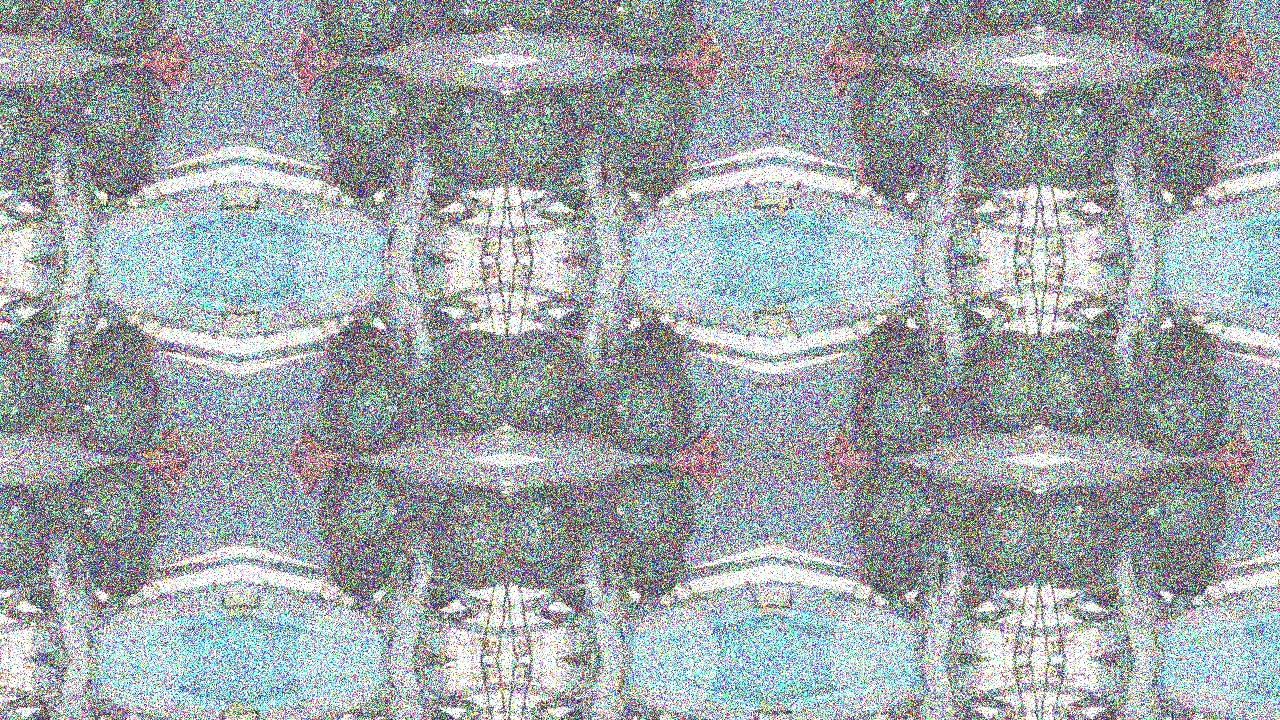chock: (134, 16, 204, 60), (276, 16, 346, 60), (809, 16, 879, 60), (1201, 16, 1271, 60), (134, 60, 204, 104), (276, 60, 346, 104), (809, 60, 879, 104), (1201, 60, 1271, 104), (134, 416, 204, 460), (276, 416, 346, 460), (809, 416, 879, 460), (1201, 416, 1271, 460), (134, 460, 204, 504), (276, 460, 346, 504), (809, 460, 879, 504), (1201, 460, 1271, 504), (668, 16, 737, 60), (668, 60, 737, 104), (668, 416, 737, 460), (668, 460, 737, 504)
wheel: (592, 60, 706, 177), (841, 60, 955, 177), (1125, 60, 1239, 177), (592, 343, 706, 460), (841, 343, 955, 460), (1125, 343, 1239, 460), (592, 460, 706, 577), (841, 460, 955, 577), (1125, 460, 1239, 577), (59, 60, 172, 177), (308, 60, 421, 177), (59, 343, 172, 460), (308, 343, 421, 460), (59, 460, 172, 577), (308, 460, 421, 577), (420, 80, 507, 199), (507, 80, 594, 199), (953, 80, 1040, 199), (1040, 80, 1127, 199), (420, 321, 507, 440), (507, 321, 594, 440), (953, 321, 1040, 440), (1040, 321, 1127, 440), (420, 480, 507, 599), (507, 480, 594, 599), (953, 480, 1040, 599), (1040, 480, 1127, 599), (0, 80, 60, 199), (0, 321, 60, 440), (0, 480, 60, 599), (592, 0, 706, 60), (841, 0, 955, 60), (1125, 0, 1239, 60), (59, 0, 172, 60), (308, 0, 421, 60), (420, 0, 507, 40), (507, 0, 594, 40), (953, 0, 1040, 40), (1040, 0, 1127, 40), (87, 153, 156, 203), (324, 153, 393, 203), (621, 153, 690, 203), (857, 153, 926, 203), (1154, 153, 1223, 203), (87, 317, 156, 367), (324, 317, 393, 367), (621, 317, 690, 367), (857, 317, 926, 367), (1154, 317, 1223, 367), (87, 553, 156, 603), (324, 553, 393, 603), (621, 553, 690, 603), (857, 553, 926, 603), (1154, 553, 1223, 603), (0, 0, 60, 40), (17, 177, 58, 215), (422, 177, 463, 215), (551, 177, 592, 215), (955, 177, 996, 215), (1084, 177, 1125, 215), (17, 305, 58, 343), (422, 305, 463, 343), (551, 305, 592, 343), (955, 305, 996, 343), (1084, 305, 1125, 343), (17, 577, 58, 615), (422, 577, 463, 615), (551, 577, 592, 615), (955, 577, 996, 615), (1084, 577, 1125, 615), (17, 705, 58, 720), (422, 705, 463, 720), (551, 705, 592, 720), (955, 705, 996, 720), (1084, 705, 1125, 720), (87, 717, 156, 720), (324, 717, 393, 720), (621, 717, 690, 720), (857, 717, 926, 720), (1154, 717, 1223, 720)
